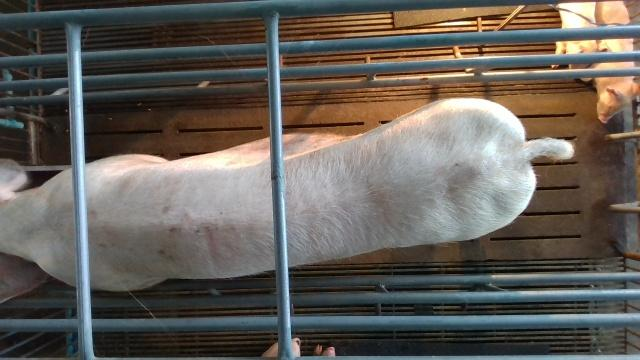piglet: (594, 2, 640, 125), (551, 1, 607, 70)
sow-stand-feed: (0, 98, 576, 293)
